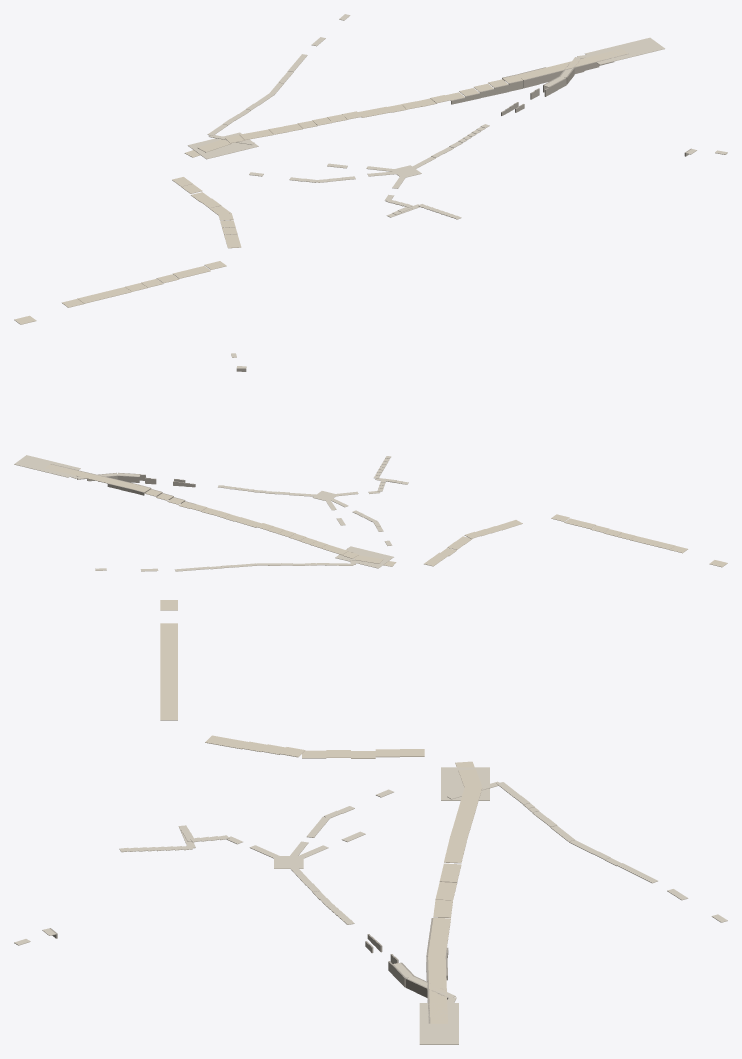
File: site-grounds.lod2.glb
3 renders of one model, top to bottom at view 1: azimuth 30°, elevation 25°; view 2: azimuth 150°, elevation 25°; view 3: azimuth 270°, elevation 25°, orthographic. The views are drawn at different scales.
Size of the model in its own units: 227 by 15.56 by 145.
